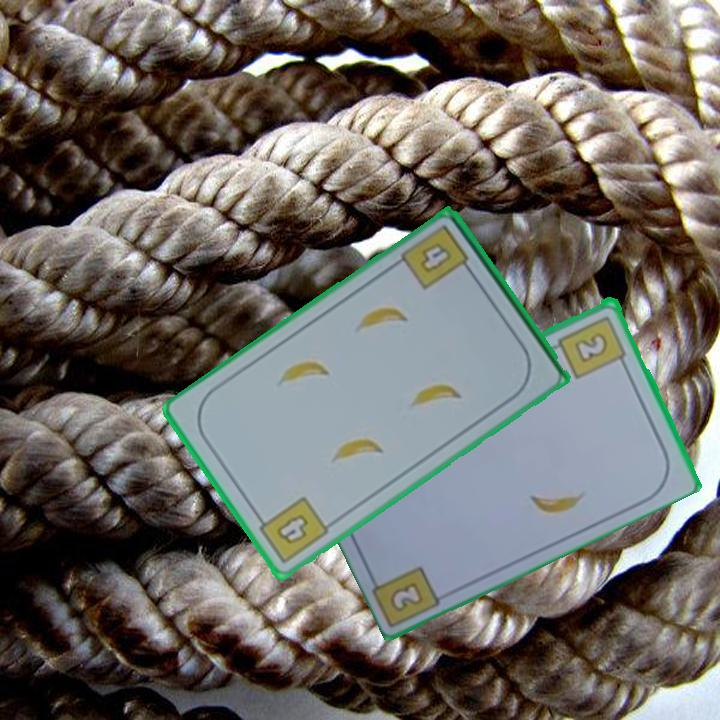2b: (555, 311, 630, 381), (389, 581, 423, 612)
4b: (251, 493, 332, 567), (400, 221, 477, 294)
